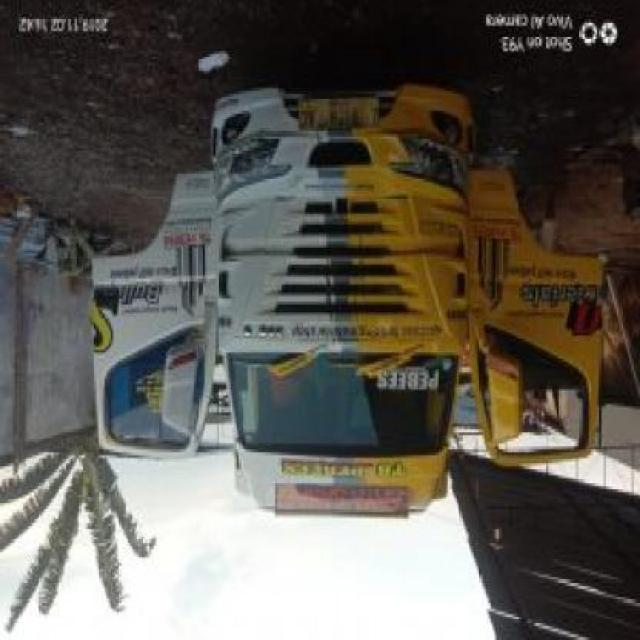truck: (95, 72, 607, 527)
